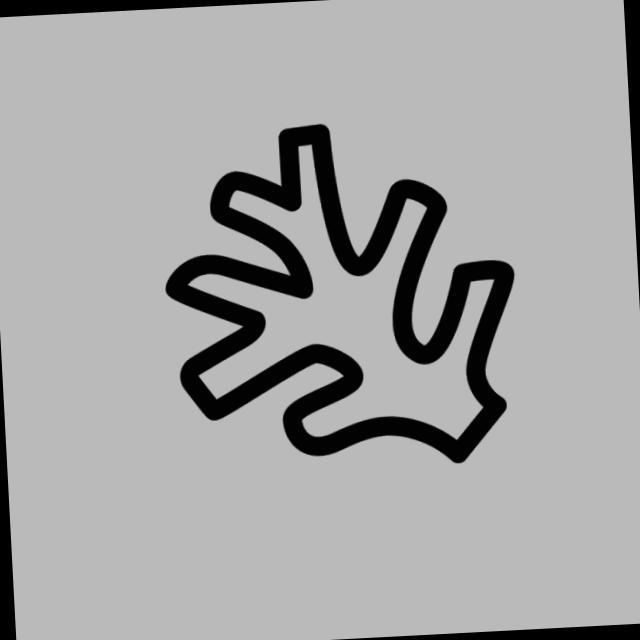coral: (153, 106, 535, 487)
